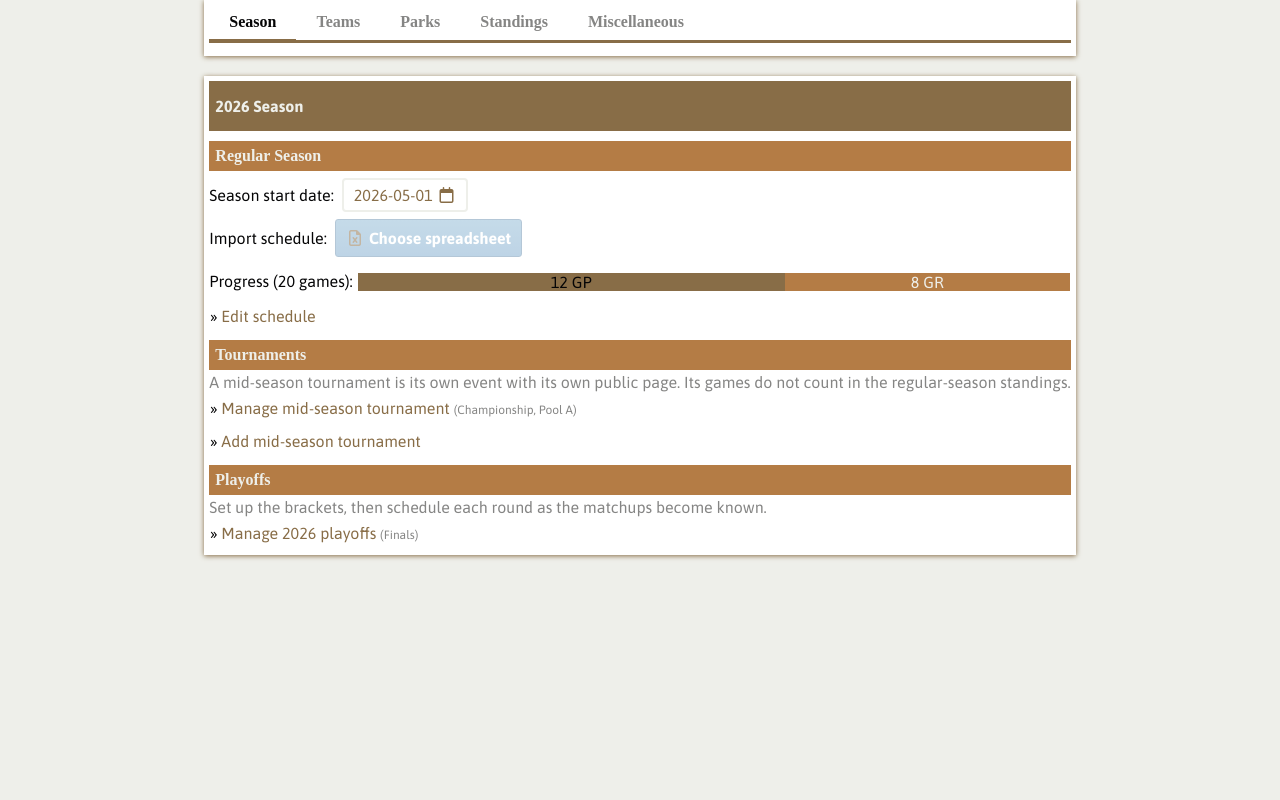
Test: Executive Page › standings tab renders the rules editor
Click the button "Standings": (514,24) [460,5,568,43]
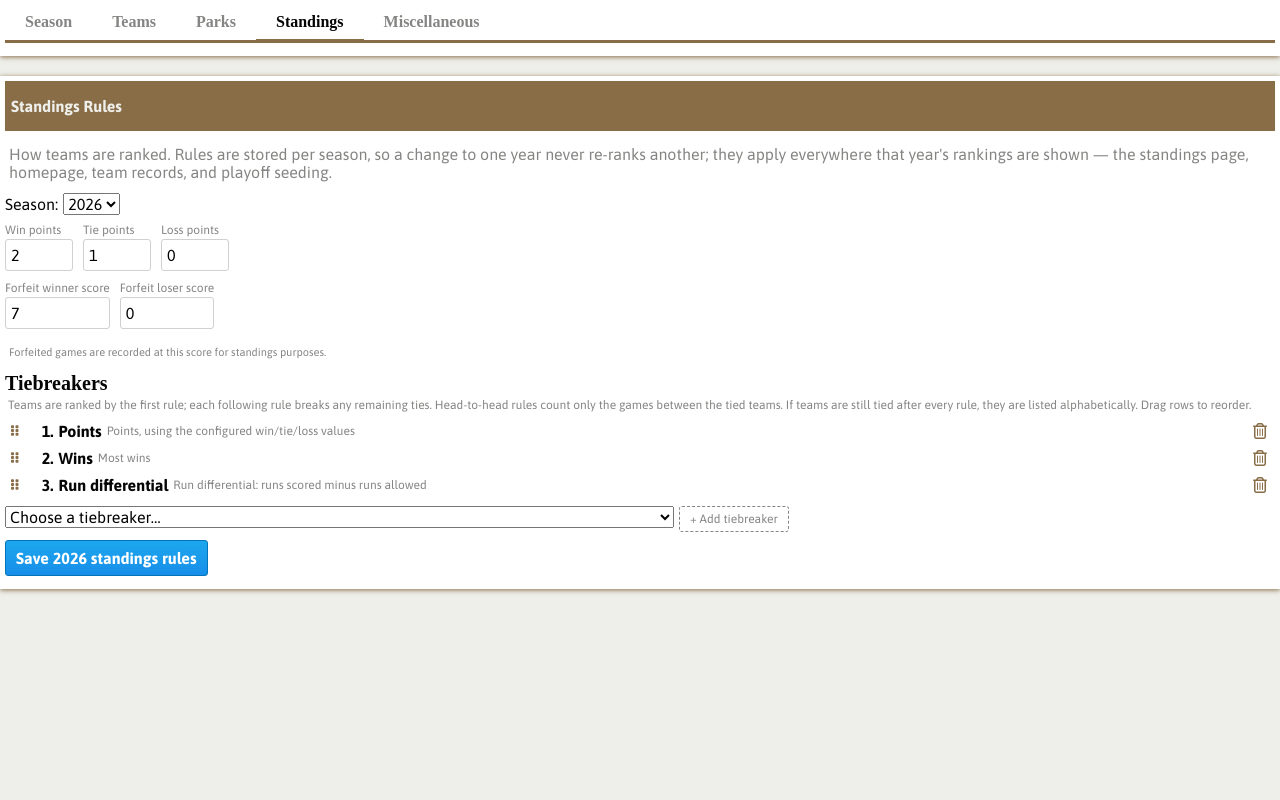
Expected: the heading "Standings Rules" is shown, [5,81,1275,131]
Expected: the number field labelled "Win points" holds "2", [5,239,73,271]
Expected: the dropdown named "Tiebreaker to add" is shown, [5,506,674,528]
